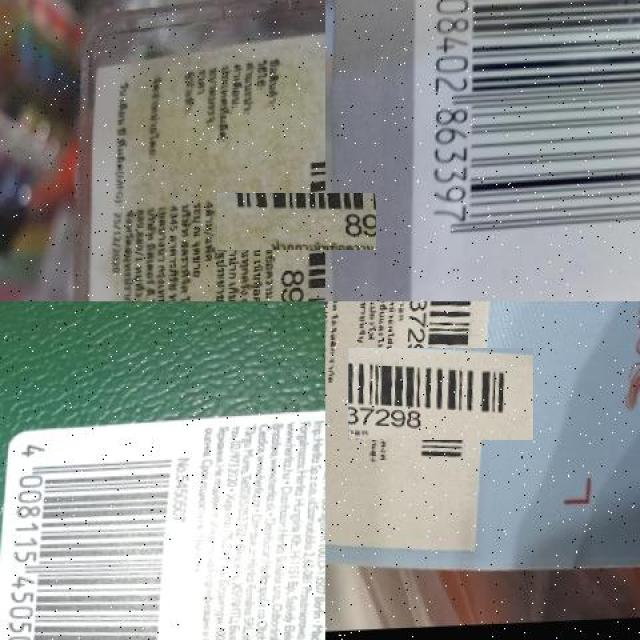Barcode: (409, 0, 640, 264), (0, 437, 171, 640), (371, 325, 510, 463), (242, 167, 351, 276)
